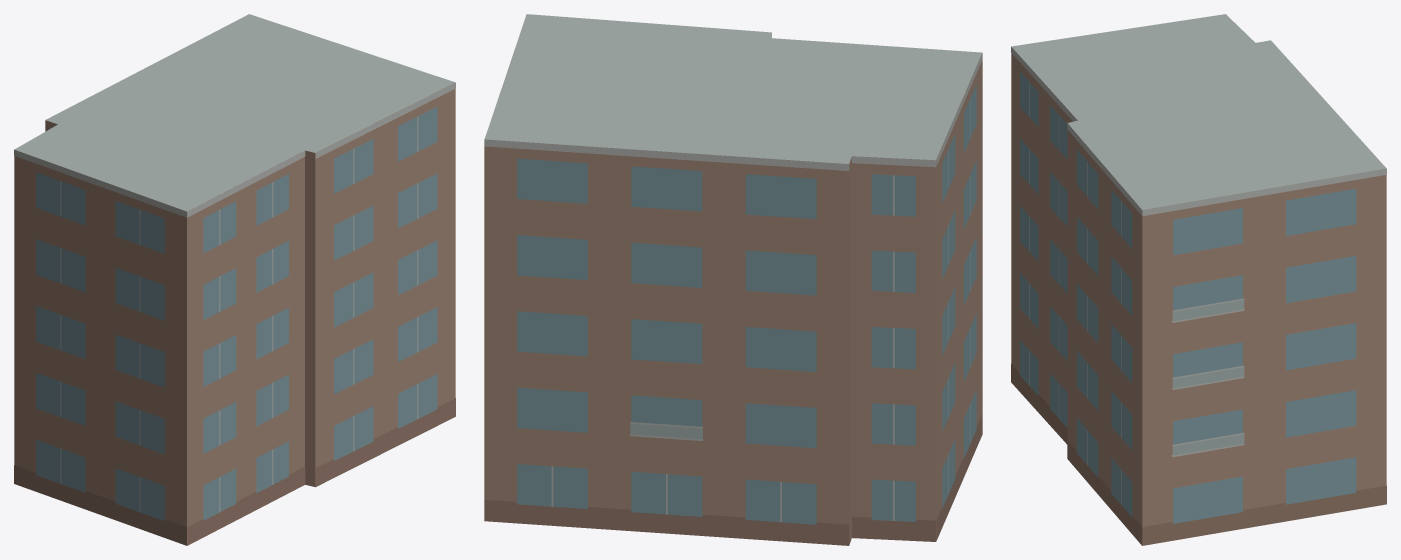
Rendered from survey-upis-32863650.glb.
The picture shows the model from 3 angles, left to right: view 1: azimuth 30°, elevation 25°; view 2: azimuth 150°, elevation 25°; view 3: azimuth 270°, elevation 25°; orthographic projection. The views are drawn at different scales.
Visible parts, largest first — view 1: survey-upis-32863650.tmp; view 2: survey-upis-32863650.tmp; view 3: survey-upis-32863650.tmp.
Part boxes in pixels (x1,y1,x2,y2): survey-upis-32863650.tmp: (14, 14, 455, 545); survey-upis-32863650.tmp: (484, 14, 982, 545); survey-upis-32863650.tmp: (1011, 14, 1386, 545).
Bounding box in the file's own units: 16.67 × 13.3 × 13.5.
